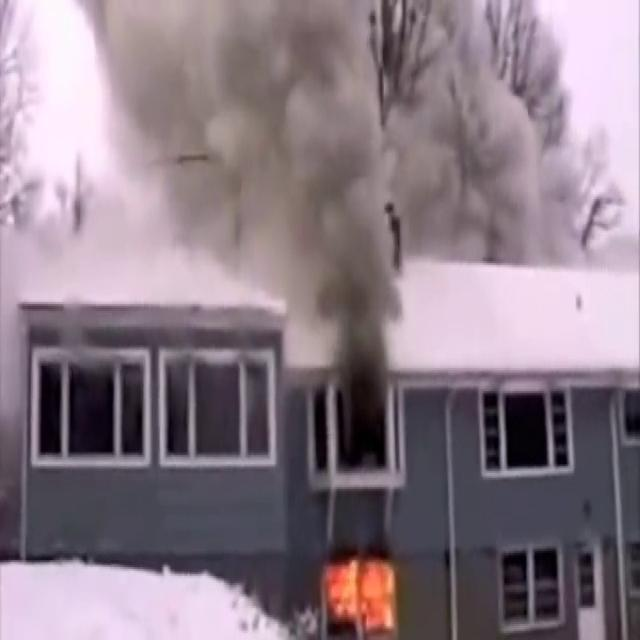Fire: (320, 536, 410, 636)
Smoke: (10, 0, 587, 322)
